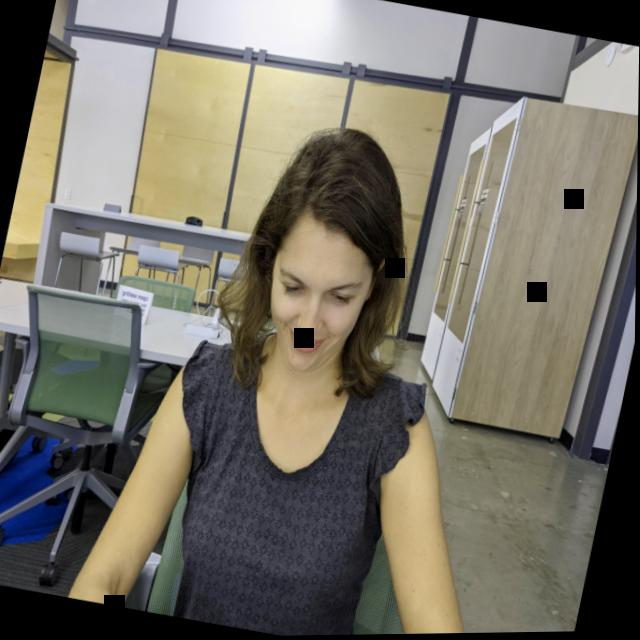NO-Mask: (251, 222, 385, 388)
